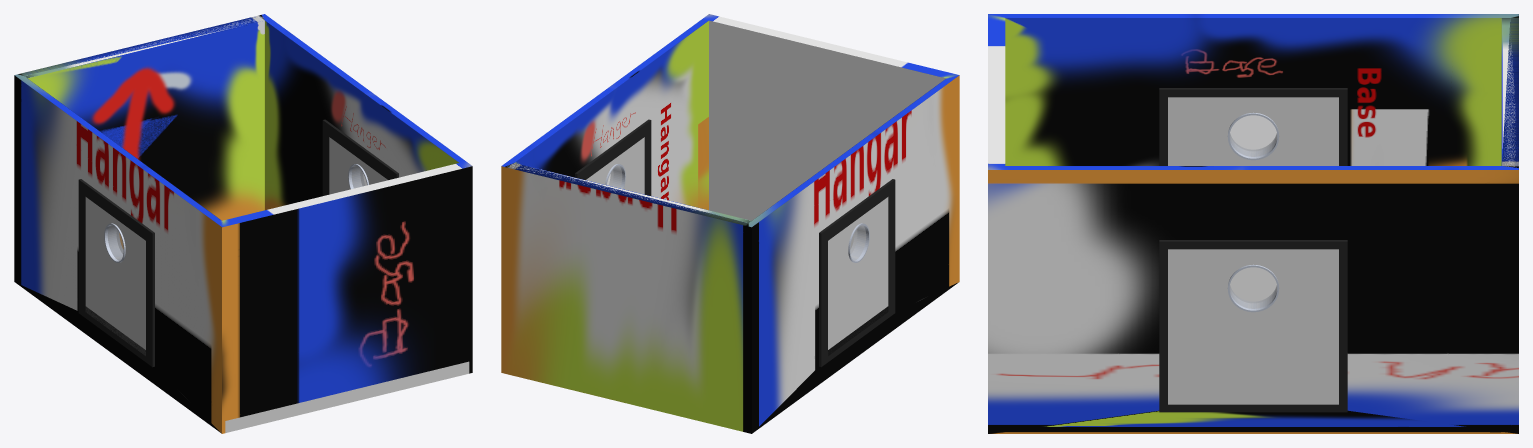
Rendered from airlock-matt.gltf.
The picture shows the model from 3 angles, left to right: view 1: azimuth 30°, elevation 25°; view 2: azimuth 150°, elevation 25°; view 3: azimuth 270°, elevation 25°; orthographic projection. The views are drawn at different scales.
Visible parts, largest first — view 1: Walls, Door Body.001, Threshold, Floor, Threshold.001, Door Body, Window Frame.001; view 2: Walls, Door Body.001, Threshold, Threshold.001, Door Body, Window Frame.001; view 3: Walls, Door Body, Door Body.001, Threshold.001, Threshold, Glass.001, Glass, Floor, Window Frame, Window Frame.001.
Boxes of the visible parts, bbox=[...] form: Walls: bbox=[14, 14, 472, 433]; Door Body.001: bbox=[85, 197, 145, 349]; Threshold: bbox=[78, 179, 154, 367]; Floor: bbox=[225, 361, 469, 432]; Threshold.001: bbox=[322, 119, 398, 195]; Door Body: bbox=[329, 137, 387, 194]; Window Frame.001: bbox=[104, 223, 125, 262]; Walls: bbox=[501, 14, 959, 433]; Door Body.001: bbox=[828, 197, 888, 349]; Threshold: bbox=[819, 179, 895, 367]; Threshold.001: bbox=[575, 119, 651, 195]; Door Body: bbox=[586, 137, 644, 194]; Window Frame.001: bbox=[848, 223, 869, 262]; Walls: bbox=[988, 14, 1518, 433]; Door Body: bbox=[1168, 249, 1338, 404]; Door Body.001: bbox=[1168, 97, 1338, 165]; Threshold.001: bbox=[1159, 240, 1347, 412]; Threshold: bbox=[1159, 88, 1347, 165]; Glass.001: bbox=[1229, 115, 1277, 156]; Glass: bbox=[1229, 267, 1277, 308]; Floor: bbox=[1230, 267, 1276, 301]; Window Frame: bbox=[1227, 264, 1279, 312]; Window Frame.001: bbox=[1227, 112, 1279, 160].
Size of the model in its own units: 4.45 by 3.4 by 6.2.
Materials: 5 (1 with a texture image).
